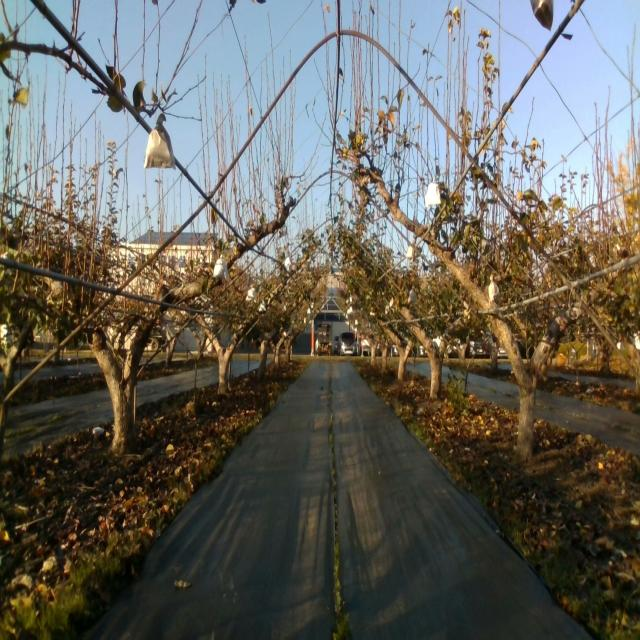pearbags: (144, 125, 175, 171), (530, 0, 554, 32), (425, 179, 441, 209), (213, 254, 230, 279), (488, 274, 499, 300), (246, 284, 256, 304)
